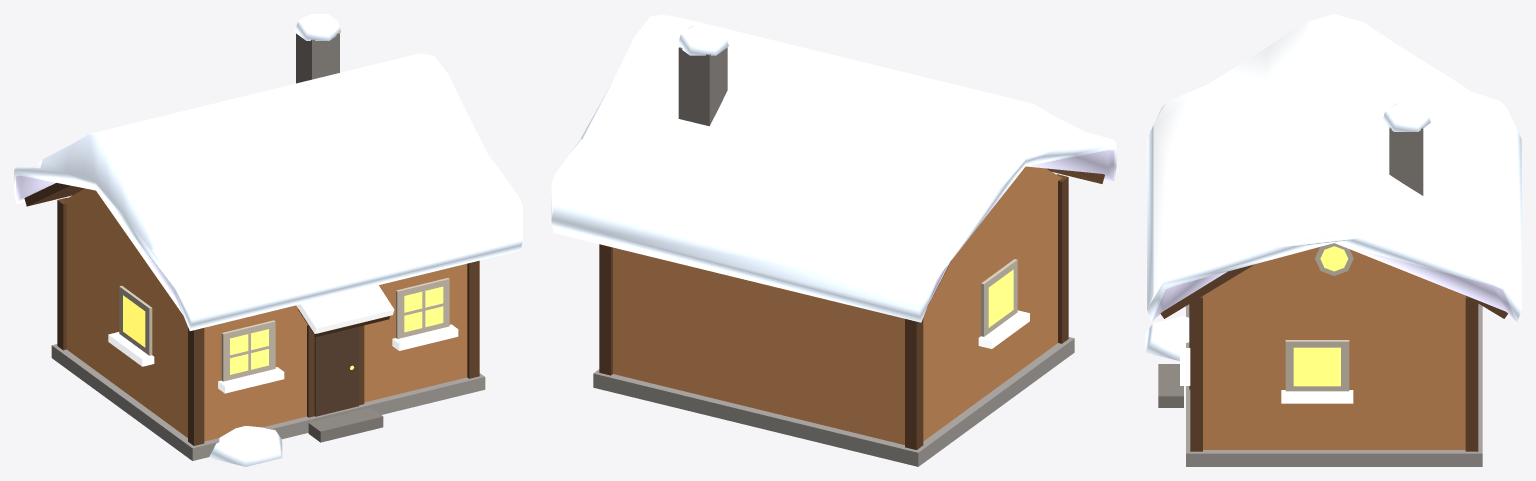
The model's file is snow-house.glb.
The picture shows the model from 3 angles, left to right: view 1: azimuth 30°, elevation 25°; view 2: azimuth 150°, elevation 25°; view 3: azimuth 270°, elevation 25°; orthographic projection. The views are drawn at different scales.
Visible parts, largest first — view 1: snow-house; view 2: snow-house; view 3: snow-house.
Boxes of the visible parts, box(x1,y1,x2,y2) form: snow-house: box(14, 14, 522, 466); snow-house: box(551, 14, 1116, 466); snow-house: box(1145, 14, 1521, 466).
Bounding box in the file's own units: 9.9 × 8.55 × 8.88.
